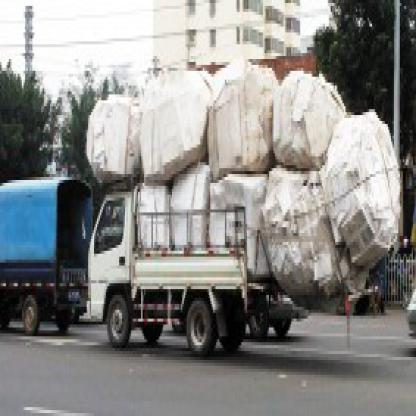overloaded-truck: (87, 78, 400, 290)
